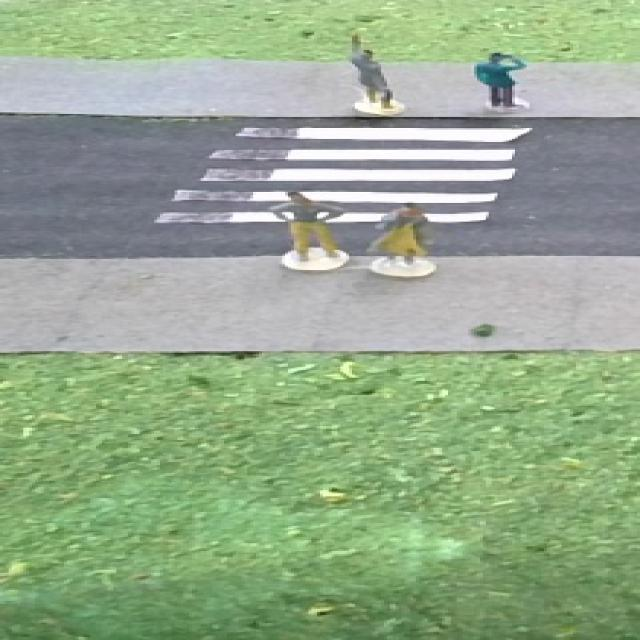person: (265, 185, 349, 272), (340, 28, 404, 113), (375, 200, 436, 278), (470, 48, 536, 115)
